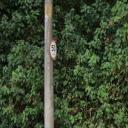speed_limit_50: (49, 40, 57, 60)
